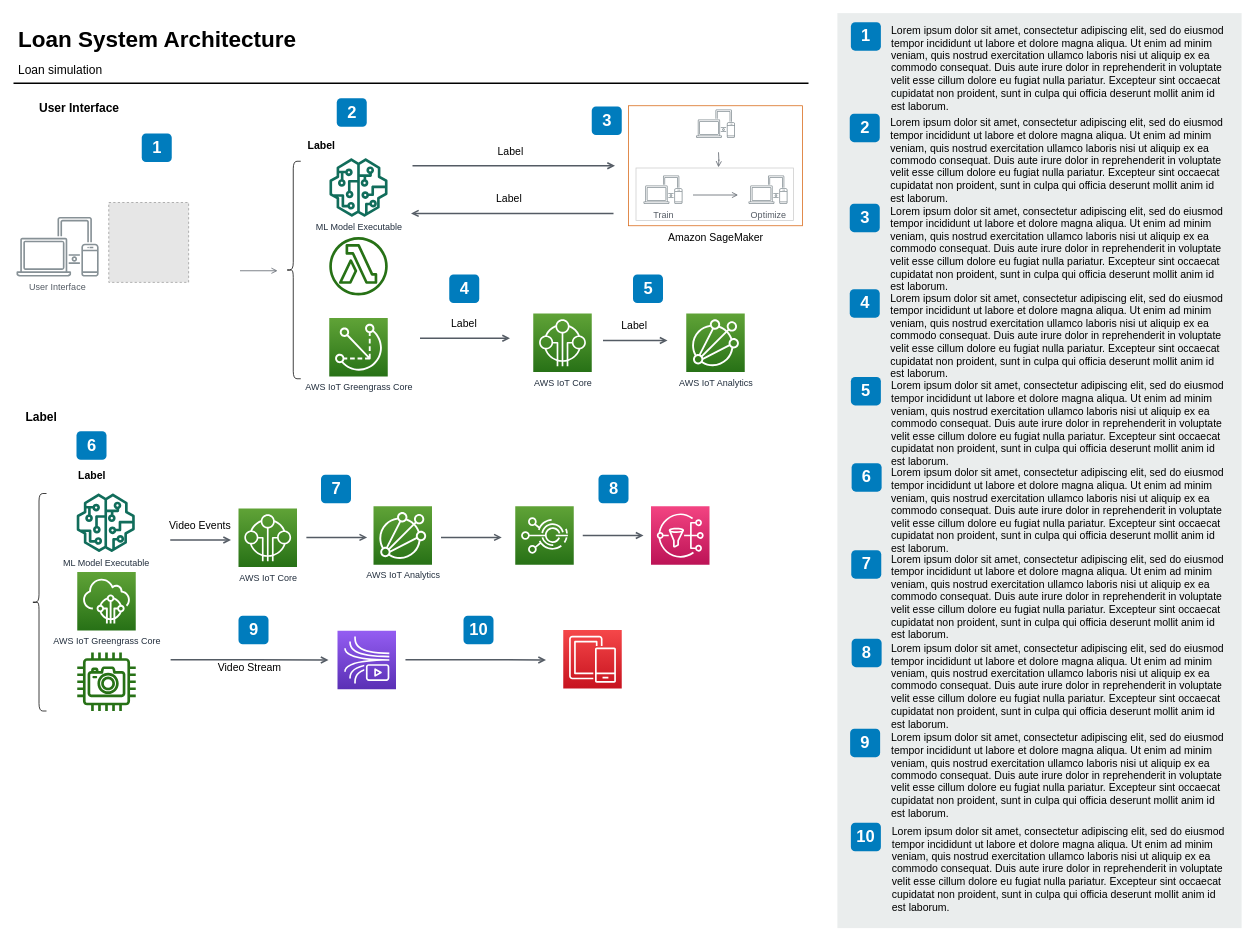
Some shapes in this 1255 by 941 pixel diagram are drawn without their labels. Grey dashed boxes stand in for pictures. The shapes that lost their labels are listed below. From the top down, each one's centre as x and y in pixels, then its label:
the point at 715,123: Build
the point at 358,266: AWS Lambda Function
the point at 544,535: AWS IoT Events
the point at 680,535: Amazon SNS
the point at 366,659: Amazon Kinesis Video Streams
the point at 592,658: Mobile Application
the point at 106,681: Video Camera
